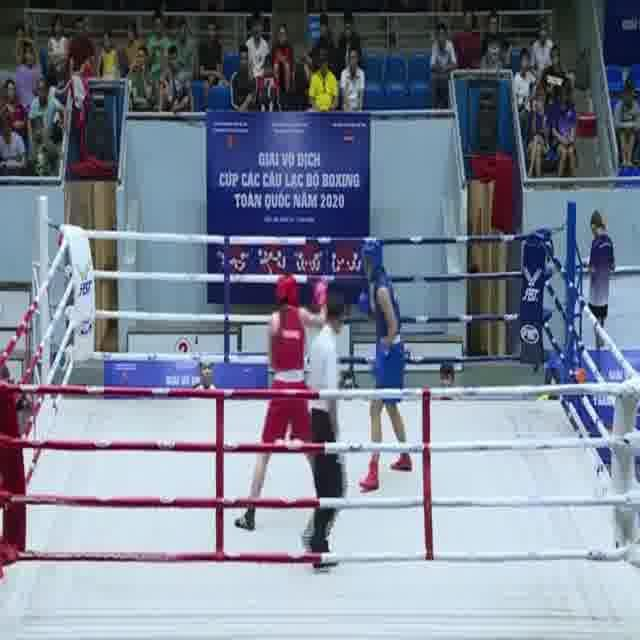blue-player: (354, 234, 415, 498)
red-player: (231, 268, 333, 530)
referee: (300, 290, 350, 574)
